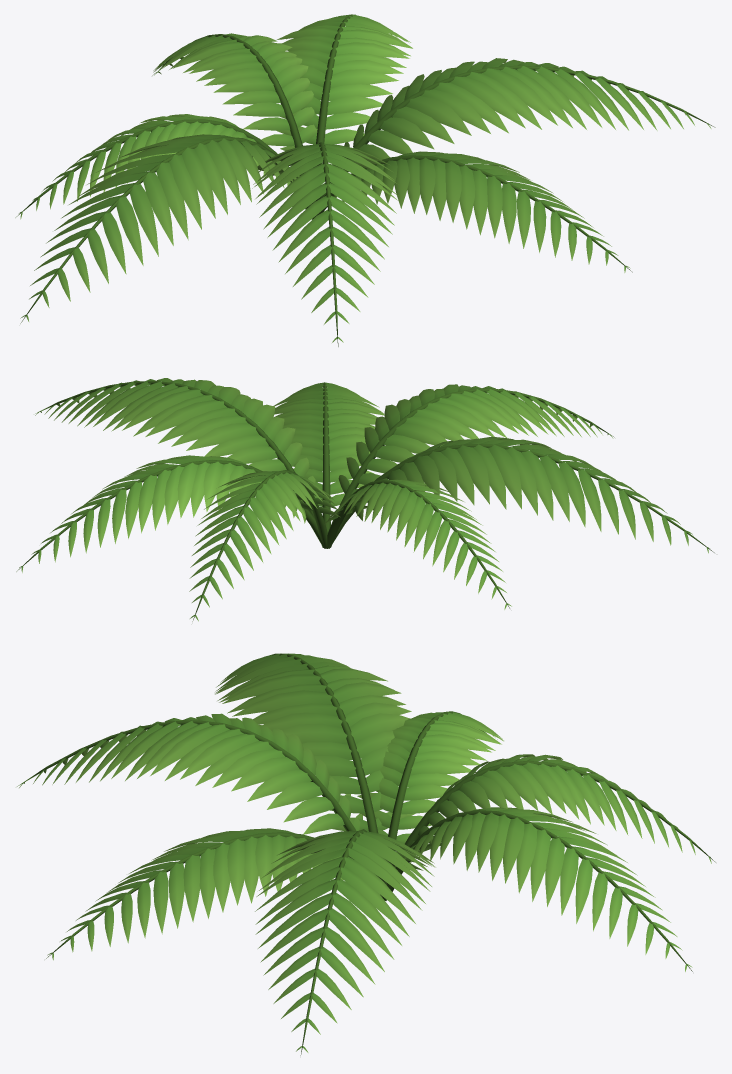
File: Fern_A.fbx
3 renders of one model, top to bottom at view 1: azimuth 30°, elevation 25°; view 2: azimuth 150°, elevation 25°; view 3: azimuth 270°, elevation 25°, orthographic. The views are drawn at different scales.
Parts seen in each view (by area): view 1: Fern_A; view 2: Fern_A; view 3: Fern_A.
Part boxes in pixels (x1,y1,x2,y2): Fern_A: (15, 14, 715, 346); Fern_A: (16, 378, 714, 621); Fern_A: (17, 653, 715, 1055).
Bounding box in the file's own units: 26.75 × 4.65 × 20.81.
